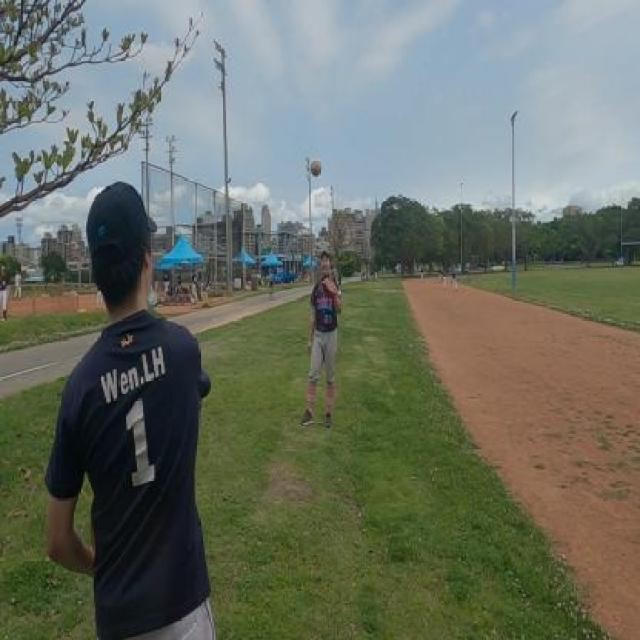baseball: (310, 157, 322, 178)
